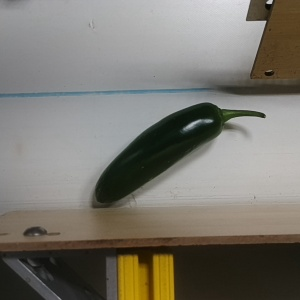Cut Point: (203, 101, 233, 135)
